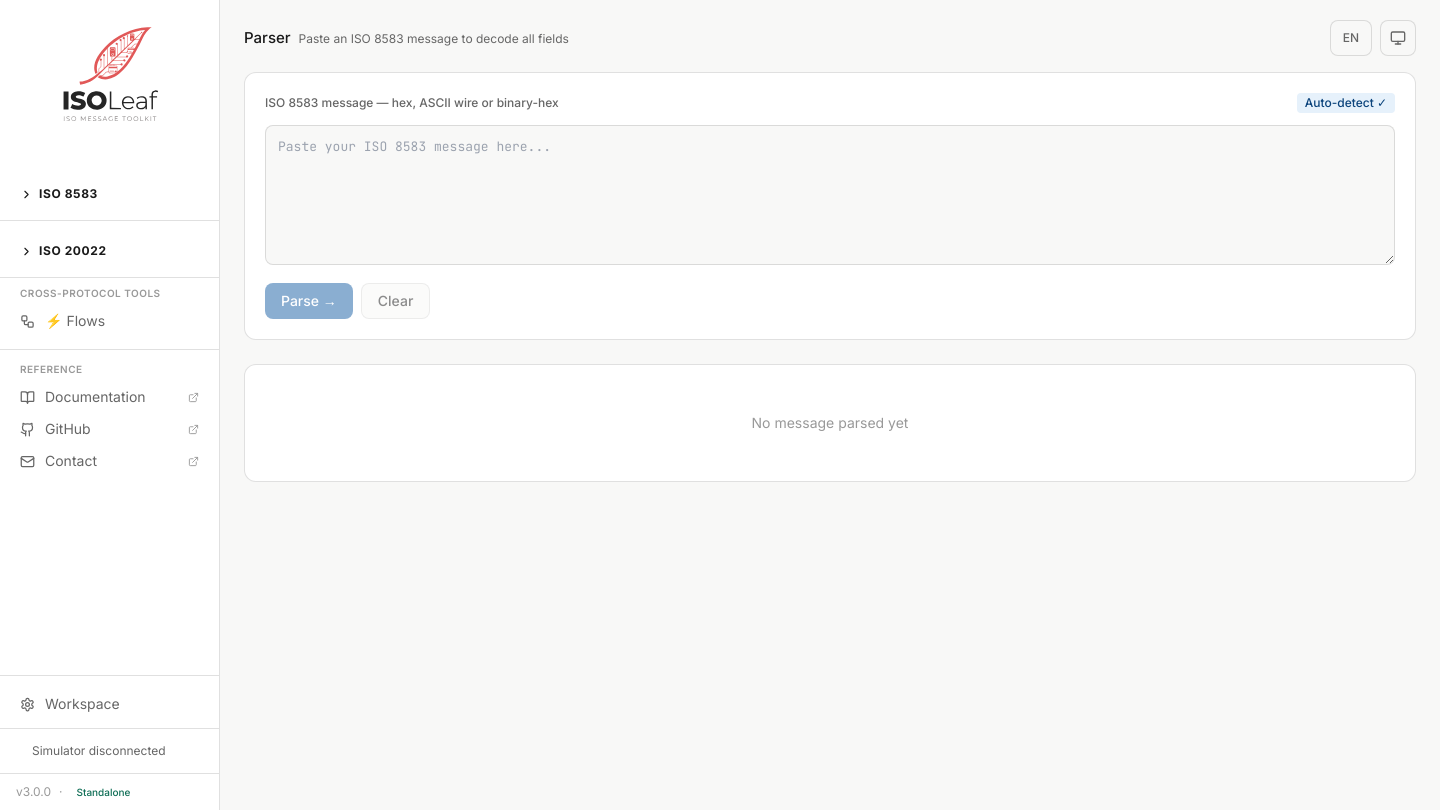
Scenario: Parser page › shows partial fields + error callout when parse fails midway
In the text box with placeholder "Paste your ISO 8583 message here...": (830, 195) [265, 125, 1395, 265], type "020072300000000000001634567890123456780600000000000001000605123000000006123000"
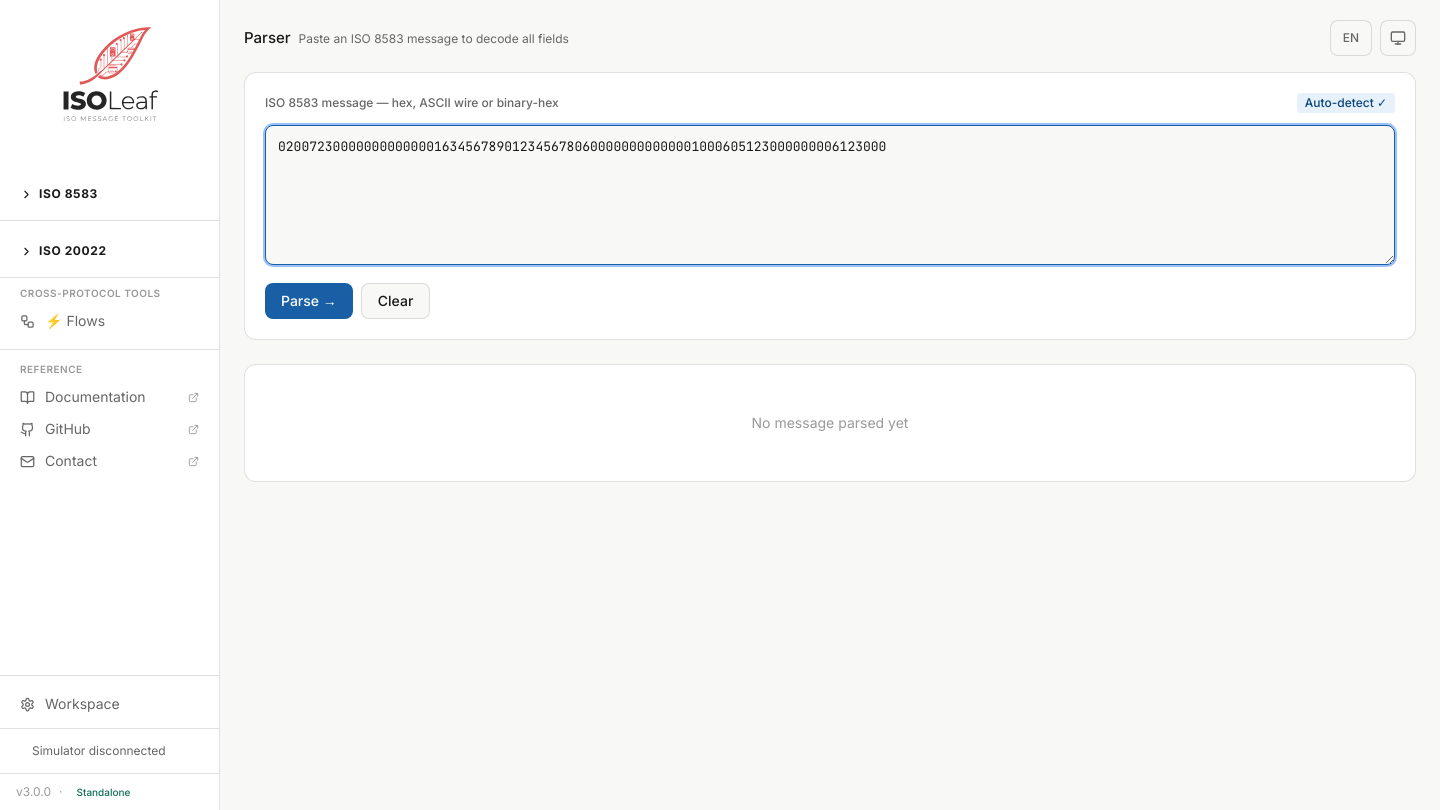
Click the button "Parse →": (309, 301) [265, 283, 353, 319]
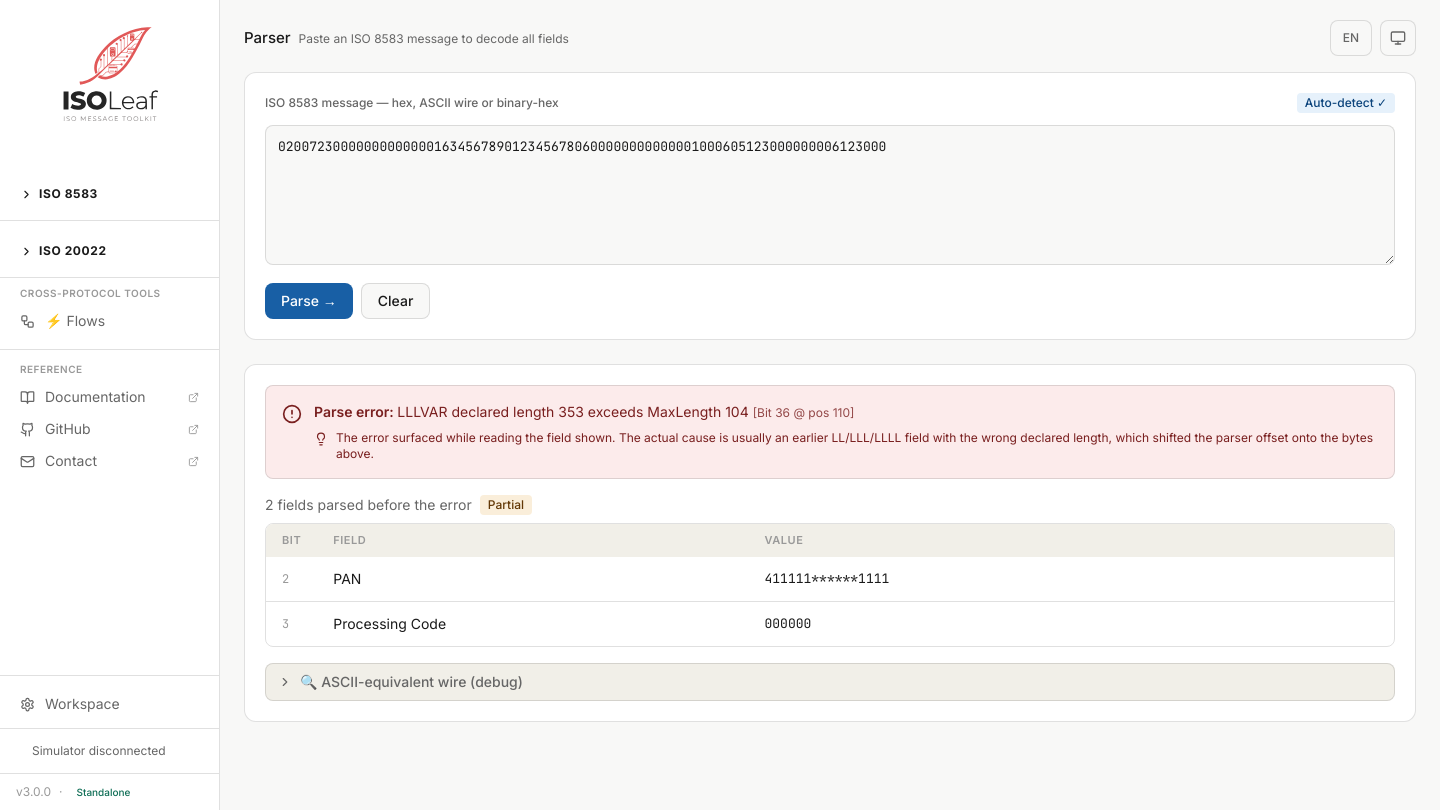
Check: the text "LLLVAR declared length 353" is shown, box [397, 403, 749, 420]
Check: the text "Partial" is shown, box [480, 495, 532, 515]
Check: the text "2 fields parsed before the error" is shown, box [265, 495, 472, 515]
